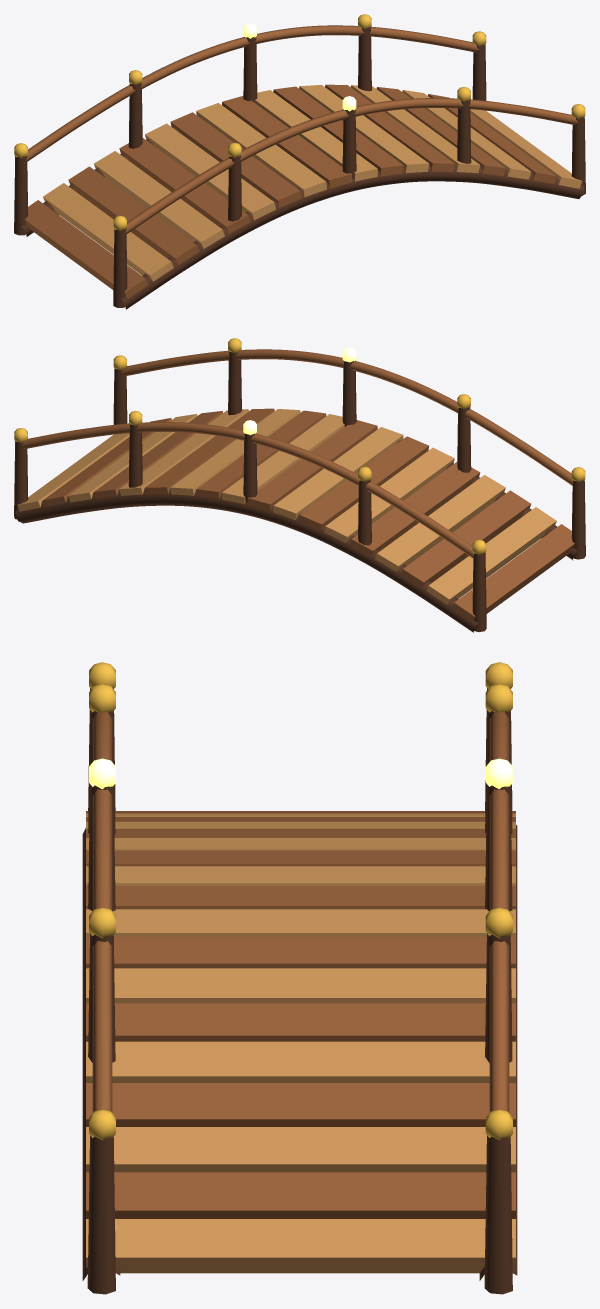
File: wooden-bridge.glb
The picture shows the model from 3 angles, top to bottom: view 1: azimuth 30°, elevation 25°; view 2: azimuth 150°, elevation 25°; view 3: azimuth 270°, elevation 25°; orthographic projection. The views are drawn at different scales.
Visible parts, largest first — view 1: Mesh_wood, Mesh_lightWood, Mesh_darkWood, Mesh_gold; view 2: Mesh_wood, Mesh_lightWood, Mesh_darkWood, Mesh_gold; view 3: Mesh_wood, Mesh_lightWood, Mesh_darkWood, Mesh_gold, Mesh_glowWarm.
Boxes of the visible parts, left/top/right/bottom form: Mesh_wood: left=25, top=25, right=578, bottom=298; Mesh_lightWood: left=43, top=85, right=582, bottom=281; Mesh_darkWood: left=14, top=27, right=585, bottom=309; Mesh_gold: left=14, top=14, right=585, bottom=230; Mesh_wood: left=21, top=349, right=574, bottom=621; Mesh_lightWood: left=17, top=409, right=556, bottom=604; Mesh_darkWood: left=14, top=351, right=585, bottom=632; Mesh_gold: left=14, top=338, right=585, bottom=554; Mesh_wood: left=86, top=712, right=515, bottom=1218; Mesh_lightWood: left=86, top=813, right=515, bottom=1273; Mesh_darkWood: left=82, top=688, right=517, bottom=1294; Mesh_gold: left=89, top=662, right=512, bottom=1140; Mesh_glowWarm: left=89, top=758, right=512, bottom=789.
Bounding box in the file's own units: 6.59 × 2.1 × 2.63.
